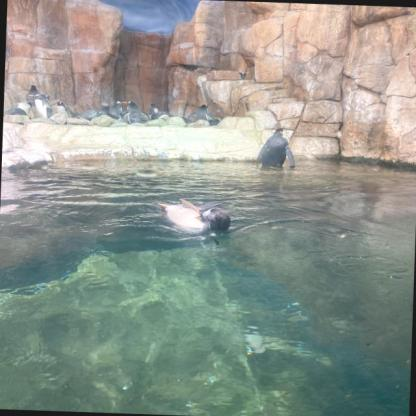penguin: (156, 198, 232, 233), (254, 124, 298, 172), (27, 93, 54, 118), (188, 103, 216, 127), (70, 108, 120, 121), (124, 100, 148, 123), (14, 101, 34, 119), (109, 100, 126, 120), (26, 85, 40, 105), (54, 102, 70, 118), (151, 110, 172, 119), (8, 107, 26, 115), (148, 103, 158, 116), (38, 94, 52, 100)
